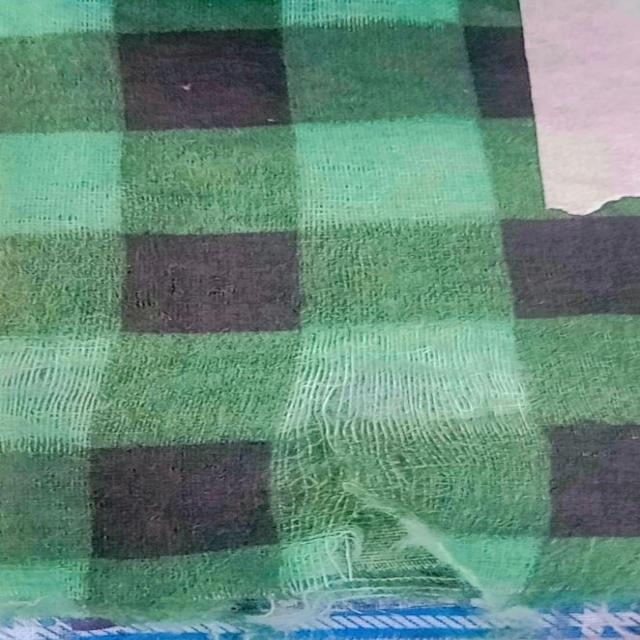cut: (242, 358, 491, 632)
